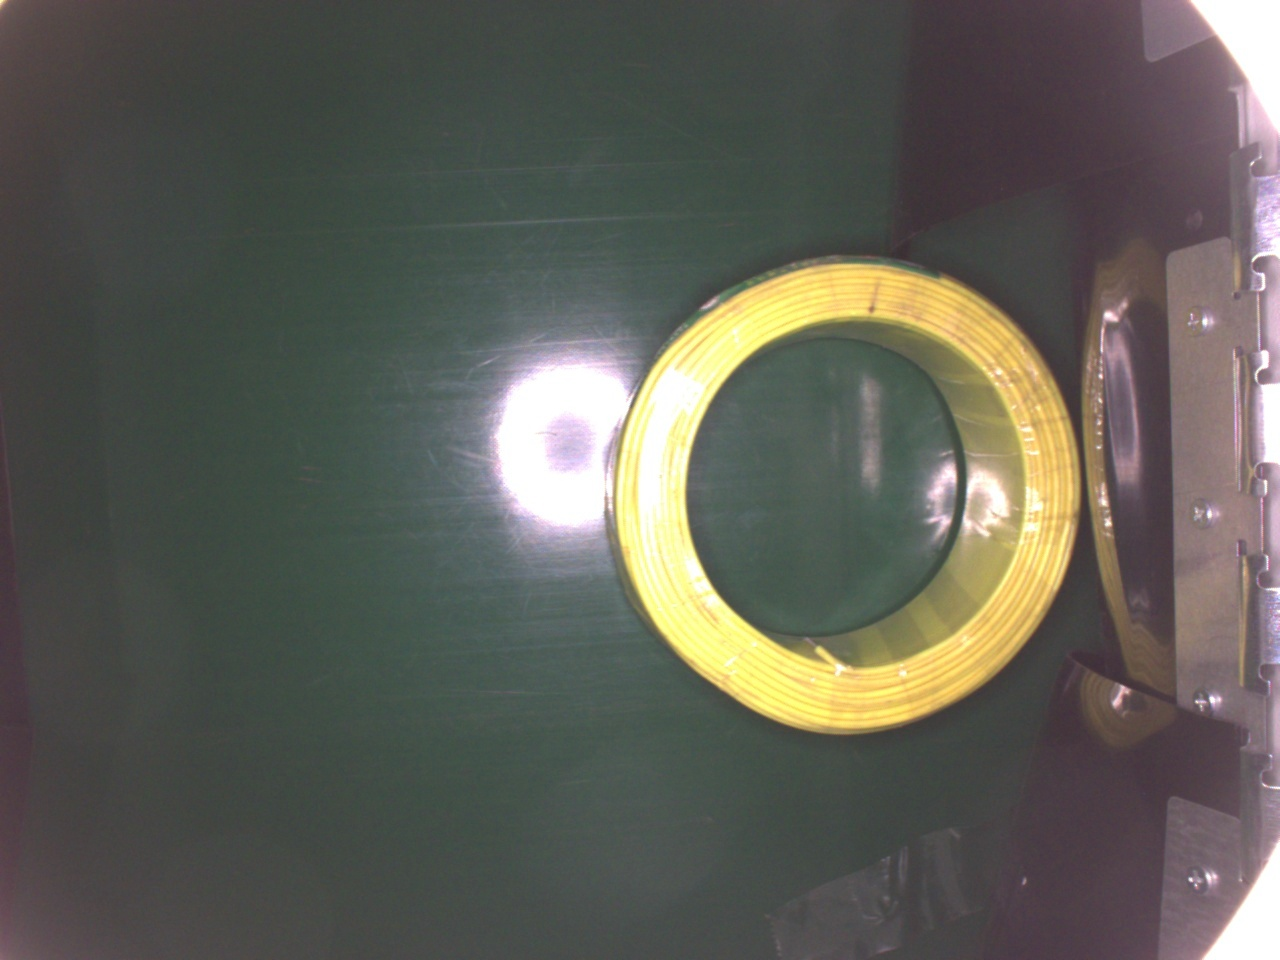yellow: (604, 245, 1089, 738)
